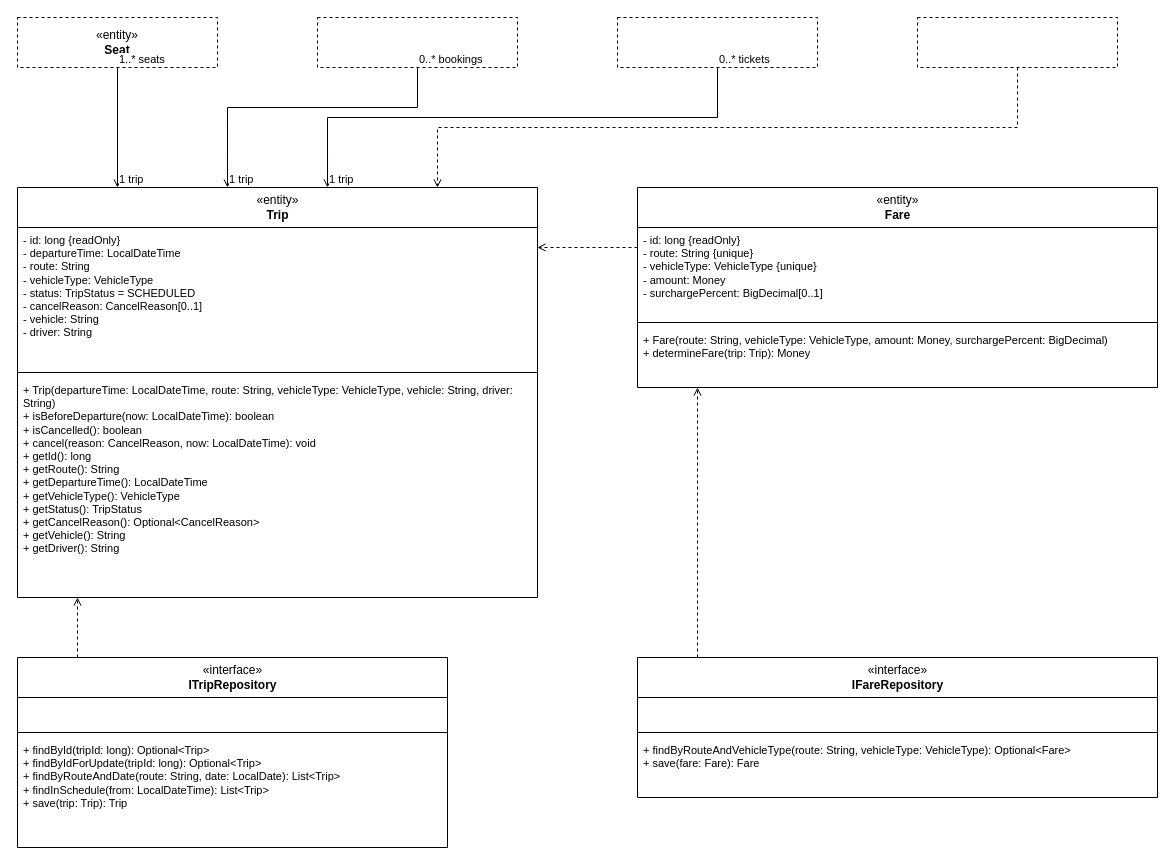
The diagram is 1175 pixels wide and 868 high, and some of its shapes have lost their labels. Each missing label, with the box of its shape:
«entity» Booking: (316, 16, 518, 68)
«entity» Ticket: (616, 16, 818, 68)
«service» TripTicketCancellation: (916, 16, 1118, 68)
